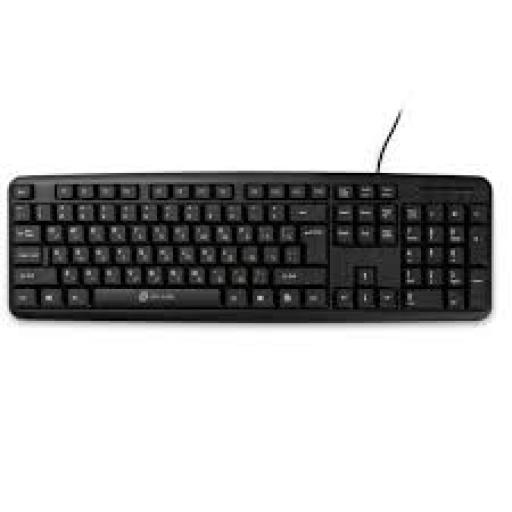keyboard: (7, 171, 492, 321)
